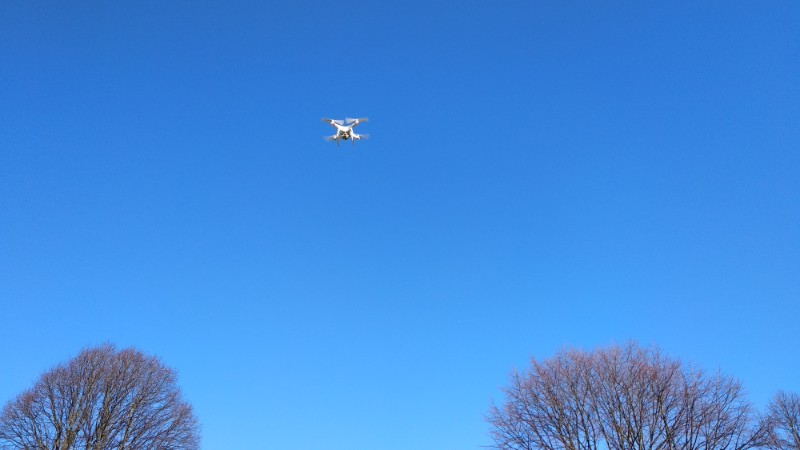drone: (319, 113, 372, 147)
